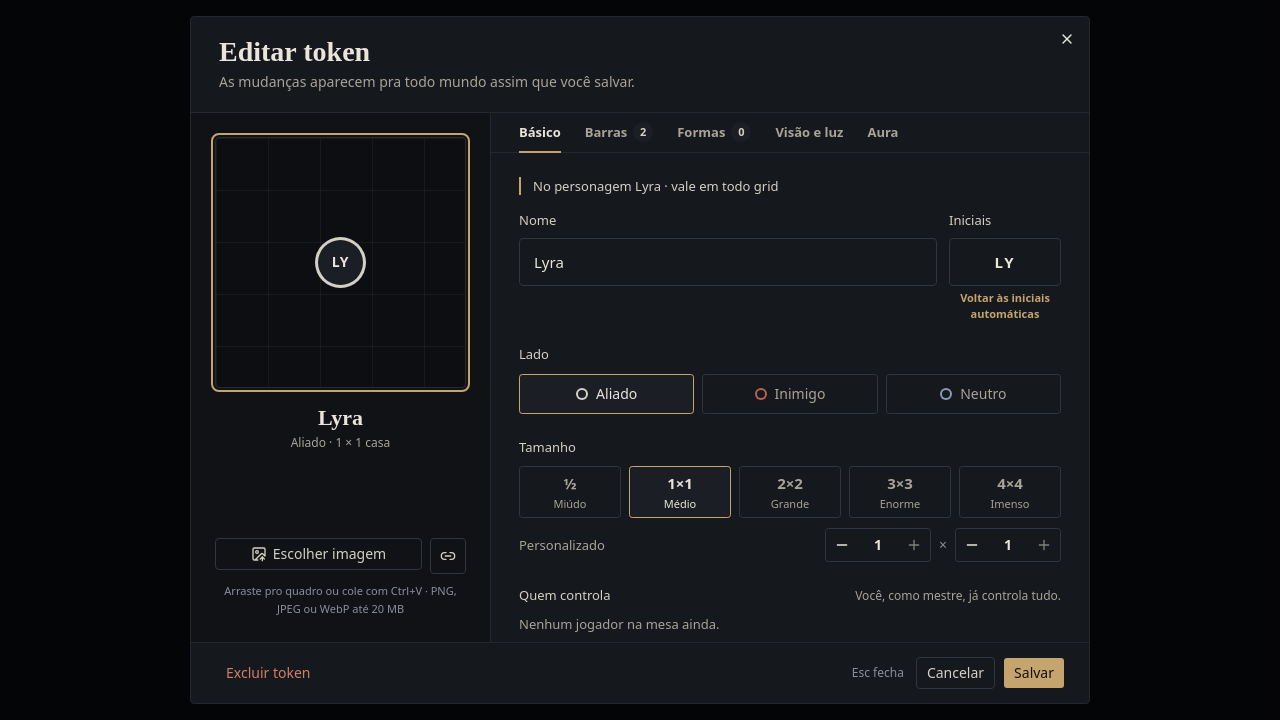
the character on a token › the token dialog › marks the shared fields of a linked token "No personagem Lyra · vale em todo grid"
Expected: the text "No personagem Lyra · vale em todo grid" is shown, [519,177,1061,195]
Click the tab "Barras 2" at (619, 133), box [585,113,653,153]
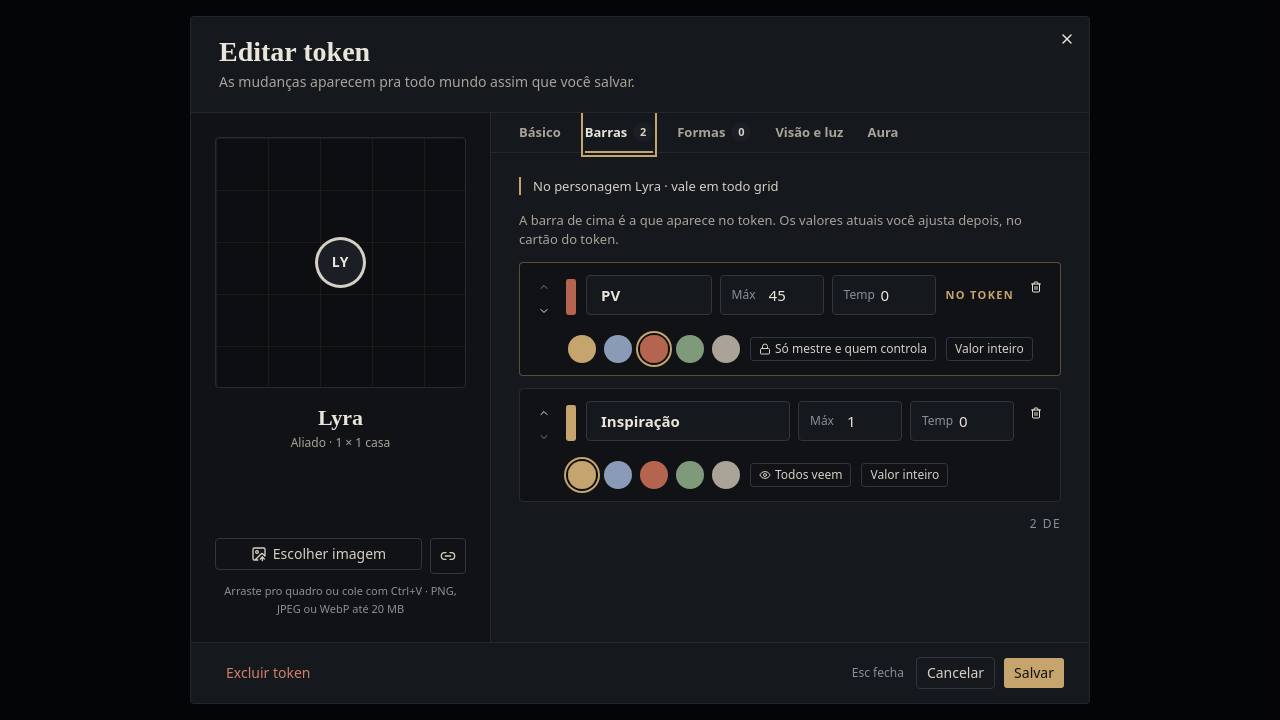
Expected: the text "No personagem Lyra · vale em todo grid" is shown, [519,177,1061,195]
Click the tab "Visão e luz" at (809, 133), box [775,113,844,153]
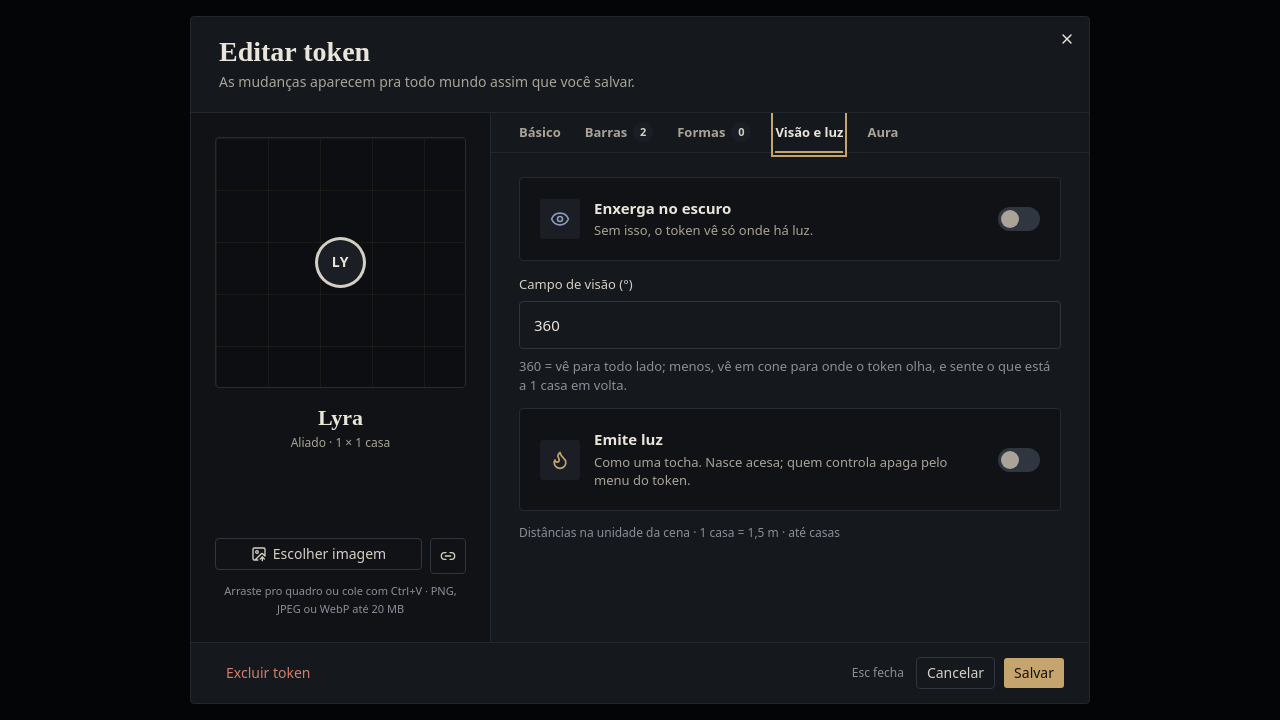
Now the text "No personagem Lyra · vale em todo grid" is gone
